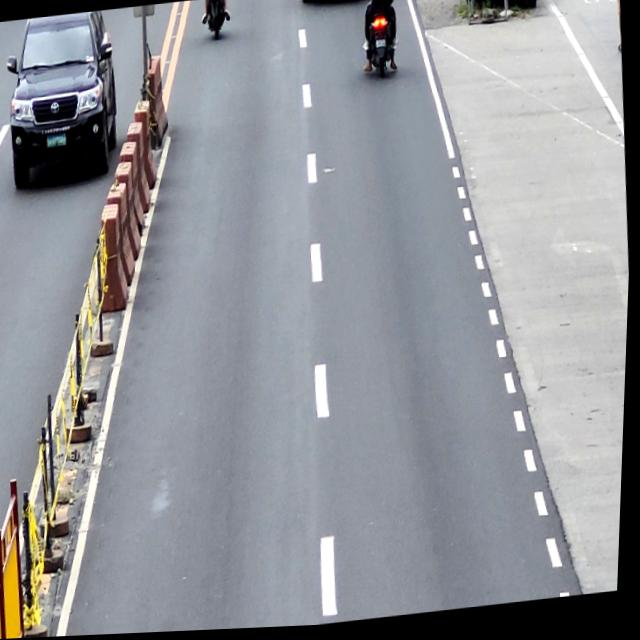License-Plate: (375, 41, 386, 51)
Motorcycle: (357, 0, 400, 84)
